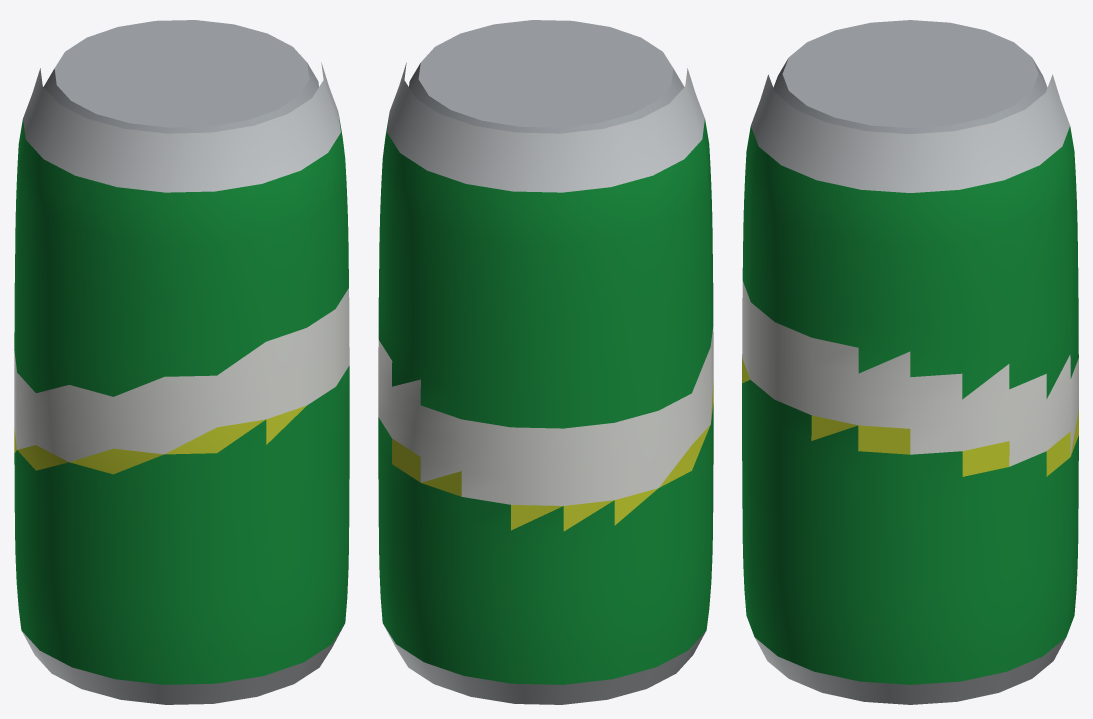
Rendered from can.glb.
3 views of the same model, side by side, from view 1: azimuth 30°, elevation 25°; view 2: azimuth 150°, elevation 25°; view 3: azimuth 270°, elevation 25° (orthographic).
Parts seen in each view (by area): view 1: green, aluminium, lid, white, lemon; view 2: green, aluminium, white, lid, lemon; view 3: green, aluminium, white, lid, lemon.
Part boxes in pixels (bbox=[...]): green: bbox=[14, 114, 349, 684]; aluminium: bbox=[21, 62, 343, 704]; lid: bbox=[43, 20, 318, 133]; white: bbox=[14, 288, 349, 462]; lemon: bbox=[14, 405, 306, 474]; green: bbox=[378, 114, 713, 684]; aluminium: bbox=[384, 62, 706, 704]; white: bbox=[378, 327, 713, 505]; lid: bbox=[409, 20, 684, 133]; lemon: bbox=[392, 379, 713, 531]; green: bbox=[742, 126, 1078, 684]; aluminium: bbox=[751, 74, 1069, 704]; white: bbox=[742, 281, 1078, 466]; lid: bbox=[773, 20, 1047, 133]; lemon: bbox=[742, 358, 1078, 476].
Size of the model in its own units: 0.0619 by 0.115 by 0.0619.
